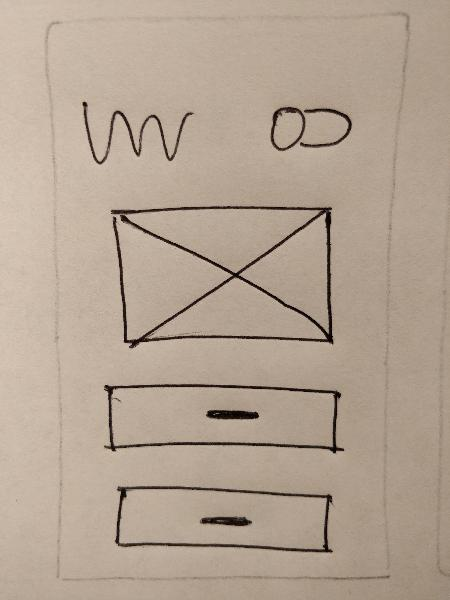button: (97, 375, 347, 466), (103, 475, 342, 562)
image: (100, 198, 341, 360)
switch: (259, 99, 359, 159)
text: (76, 97, 199, 172)
